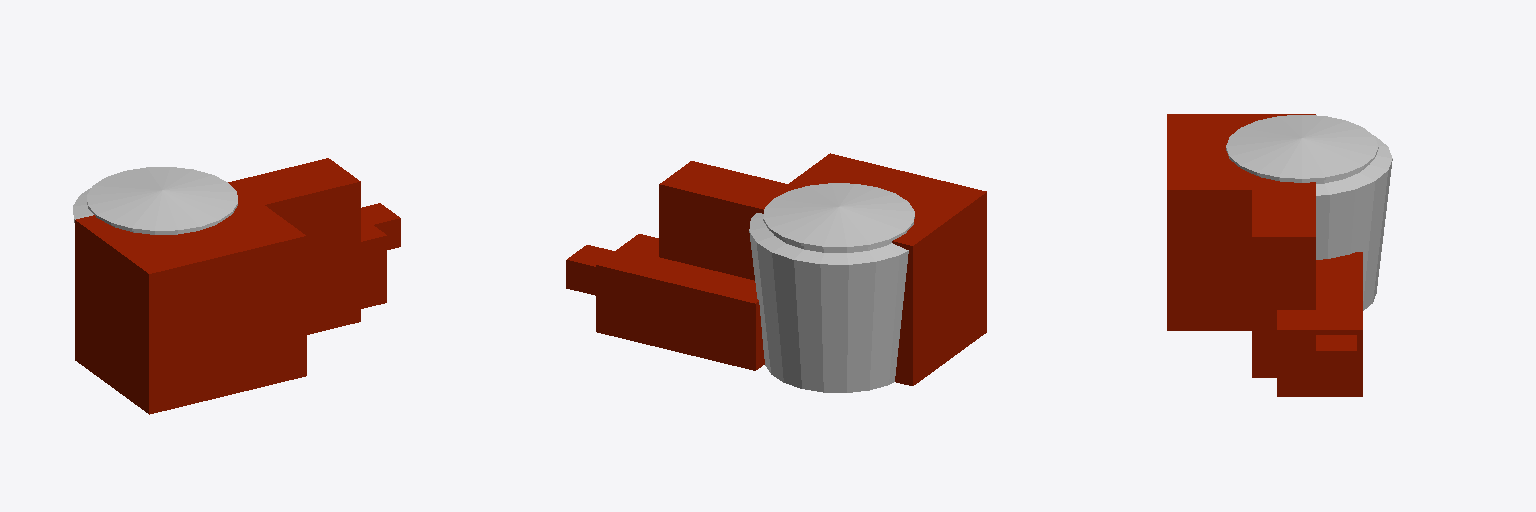
Rendered from minimalLibrary.obj.
3 views of the same model, side by side, from view 1: azimuth 30°, elevation 25°; view 2: azimuth 150°, elevation 25°; view 3: azimuth 270°, elevation 25° (orthographic).
Visible parts, largest first — view 1: Cube, Cylinder; view 2: Cube, Cylinder; view 3: Cube, Cylinder.
Boxes of the visible parts, <box> form: Cube: <box>75,158,400,414</box>; Cylinder: <box>73,167,237,234</box>; Cube: <box>566,153,986,385</box>; Cylinder: <box>749,183,914,392</box>; Cube: <box>1167,114,1362,396</box>; Cylinder: <box>1226,115,1392,310</box>.
Size of the model in its own units: 5.06 by 2.3 by 3.03.